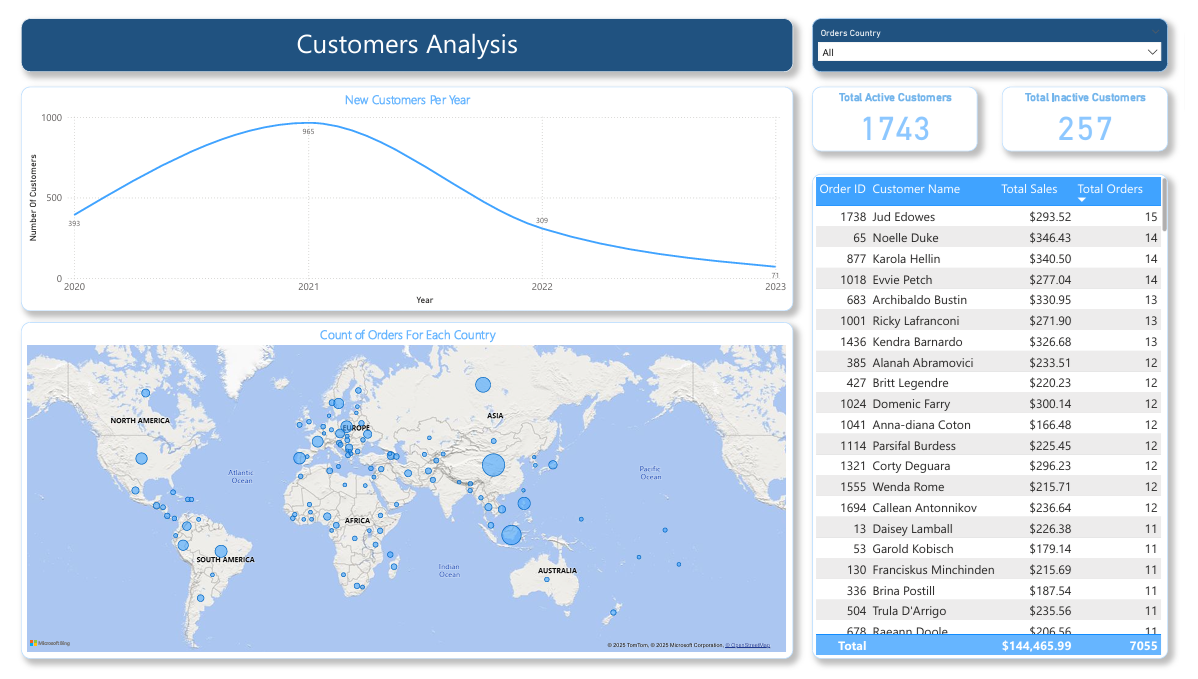

This screenshot's page, from the dashboard's own definition file:
{"tool":"powerbi","page":{"name":"Customers","canvas":[1920,1080],"ordinal":2},"visuals":[{"type":"card","title":"Number of Customers","fields":{"Values":["CountNonNull(Dim_Customers.customer_id_sk)"]},"box":[558.7,293.7,265.1,128.6],"z":0},{"type":"lineChart","title":"New Customers Per Year","fields":{"Category":["Dim_Date.Date.Variation.Date Hierarchy.Year"],"Y":["Dim_Date.New Customers Per Year"]},"box":[14.3,122.9,1264.3,368.6],"z":1000},{"type":"card","title":"Total Active Customers","fields":{"Values":["Count(Fact_sales.customer_id_fk)"]},"box":[1310,122.9,271.4,105.7],"z":2000},{"type":"card","title":"Total Inactive Customers","fields":{"Values":["Fact_sales.Customers_without_sales"]},"box":[1621.4,122.9,271.4,105.7],"z":3000},{"type":"textbox","box":[14.3,11.4,1264.3,87.1],"z":4000},{"type":"tableEx","fields":{"Values":["Dim_Customers.customer_id_sk","Dim_Customers.FullName","Fact_sales.Total Sales","Fact_sales.Total Orders"]},"box":[1310,265.7,582.9,795.7],"z":5000},{"type":"map","title":"Count of Orders For Each Country","fields":{"Size":["CountNonNull(Dim_Customers.customer_id_sk)"],"Category":["Dim_Addresses.country_name"]},"box":[14.3,508.6,1264.3,552.9],"z":6000},{"type":"slicer","fields":{"Values":["Dim_Addresses.country_name"]},"box":[1310,11.4,582.9,87.1],"z":7000}]}

Visuals, with their boxes in screenshot pixels (x1, y1, x2, y2), scaled from the page's 1920x1080 canvas onto the 1198x679 screenshot:
"Number of Customers" card: [x1=349, y1=185, x2=514, y2=266]
"New Customers Per Year" lineChart: [x1=9, y1=77, x2=798, y2=309]
"Total Active Customers" card: [x1=817, y1=77, x2=987, y2=144]
"Total Inactive Customers" card: [x1=1012, y1=77, x2=1181, y2=144]
textbox: [x1=9, y1=7, x2=798, y2=62]
tableEx - Dim_Customers.customer_id_sk x Dim_Customers.FullName: [x1=817, y1=167, x2=1181, y2=667]
"Count of Orders For Each Country" map: [x1=9, y1=320, x2=798, y2=667]
slicer - Dim_Addresses.country_name: [x1=817, y1=7, x2=1181, y2=62]
